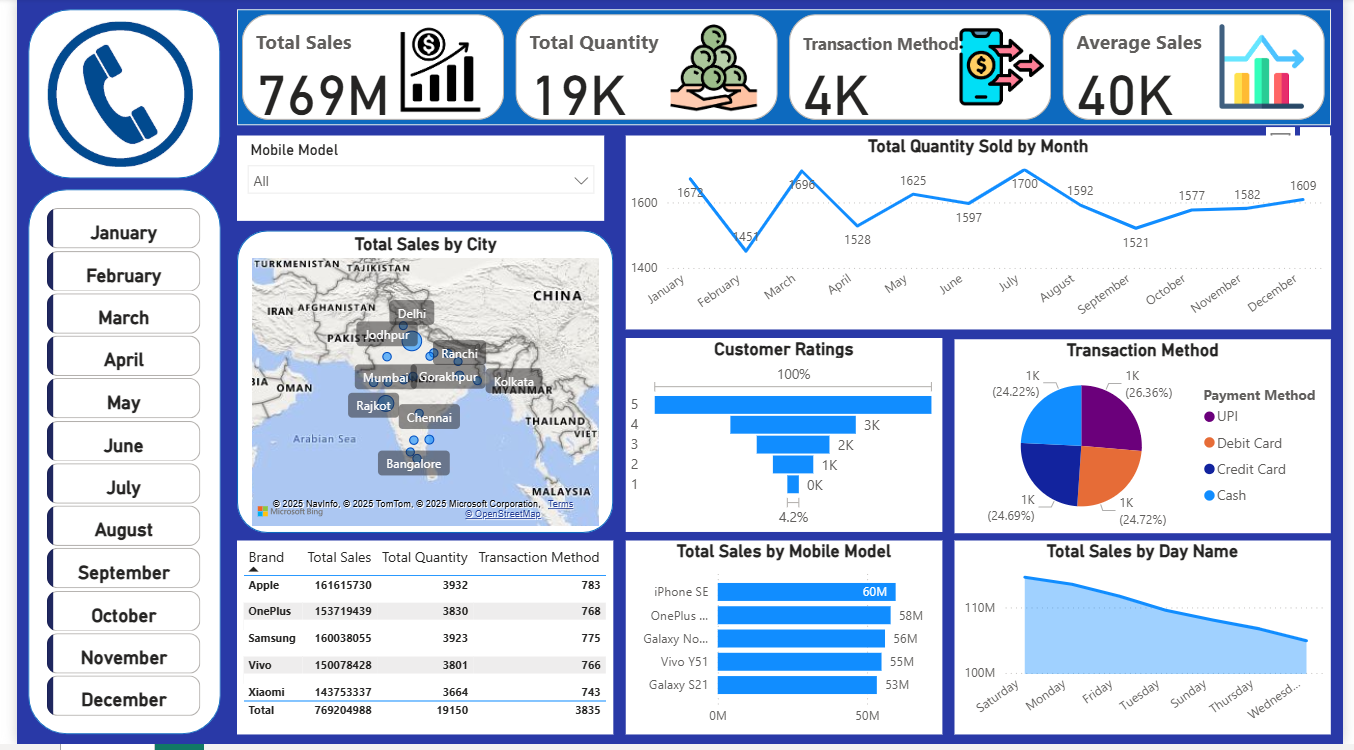

Layout of this report page (visuals, bound fields, positions):
{"tool":"powerbi","page":{"name":"Page 1","canvas":[1280,720],"ordinal":0},"visuals":[{"type":"shape","box":[10.9,184.6,185.8,526],"z":1000},{"type":"advancedSlicerVisual","fields":{"Values":["Mobile_Sales_Data.Date.Variation.Date Hierarchy.Month"]},"box":[24.1,197.9,158,500.7],"z":2000},{"type":"cardVisual","fields":{"Data":["Mobile_Sales_Data.Total Sales","Mobile_Sales_Data.Total Quantity","Mobile_Sales_Data.Transaction Method","Mobile_Sales_Data.Average Sales"]},"box":[212.3,10.9,1055.6,112.2],"z":2500},{"type":"shape","box":[11,11,185.2,163.3],"z":3000},{"type":"image","box":[24.7,17.8,150.9,149.6],"z":4000},{"type":"shape","box":[212.3,224.4,363.1,292],"z":5000},{"type":"map","fields":{"Category":["Mobile_Sales_Data.City"],"Size":["Mobile_Sales_Data.Total Sales"]},"box":[222,226.8,345,288.3],"z":6000},{"type":"slicer","fields":{"Values":["Mobile_Sales_Data.Mobile Model"]},"box":[212.3,132.7,354.7,82],"z":7000},{"type":"lineChart","title":"Total Quantity Sold by Month","fields":{"Category":["Mobile_Sales_Data.Date.Variation.Date Hierarchy.Month"],"Y":["Sum(Mobile_Sales_Data.Units Sold)"]},"box":[587.5,132.7,680.4,187],"z":8000},{"type":"funnel","title":" Customer Ratings ","fields":{"Y":["Sum(Mobile_Sales_Data.Customer Ratings)"],"Category":["Mobile_Sales_Data.Customer Ratings"]},"box":[587.5,328.2,305.2,187],"z":9000},{"type":"pieChart","title":"Transaction Method ","fields":{"Category":["Mobile_Sales_Data.Payment Method"],"Y":["Mobile_Sales_Data.Transaction Method"]},"box":[904.8,329.4,363.1,187],"z":10000},{"type":"clusteredBarChart","fields":{"Category":["Mobile_Sales_Data.Mobile Model"],"Y":["Mobile_Sales_Data.Total Sales"]},"box":[587.5,523.6,305.2,187],"z":11000},{"type":"tableEx","fields":{"Values":["Mobile_Sales_Data.Brand","Mobile_Sales_Data.Total Sales","Mobile_Sales_Data.Total Quantity","Mobile_Sales_Data.Transaction Method"]},"box":[212.3,523.6,363.1,187],"z":12000},{"type":"areaChart","fields":{"Y":["Mobile_Sales_Data.Total Sales"],"Category":["Mobile_Sales_Data.Day Name"]},"box":[905,524,363,187],"z":13000},{"type":"image","box":[1155.8,10.9,91.7,109.8],"z":15501},{"type":"image","box":[360.7,18.1,96.5,102.5],"z":15502},{"type":"image","box":[615.3,18.1,114.6,98.9],"z":15503},{"type":"image","box":[904.8,16.9,91.7,98.9],"z":15504}]}

Visuals, with their boxes in screenshot pixels (x1, y1, x2, y2), scaled from the page's 1280x720 canvas onto the 1354x750 screenshot:
shape: crop(12, 192, 208, 740)
advancedSlicerVisual - Mobile_Sales_Data.Date.Variation.Date Hierarchy.Month: crop(25, 206, 193, 728)
cardVisual - Mobile_Sales_Data.Total Sales x Mobile_Sales_Data.Total Quantity: crop(225, 11, 1341, 128)
shape: crop(12, 11, 208, 182)
image: crop(26, 19, 186, 174)
shape: crop(225, 234, 609, 538)
map - Mobile_Sales_Data.City x Mobile_Sales_Data.Total Sales: crop(235, 236, 600, 537)
slicer - Mobile_Sales_Data.Mobile Model: crop(225, 138, 600, 224)
"Total Quantity Sold by Month" lineChart: crop(621, 138, 1341, 333)
" Customer Ratings " funnel: crop(621, 342, 944, 537)
"Transaction Method " pieChart: crop(957, 343, 1341, 538)
clusteredBarChart - Mobile_Sales_Data.Mobile Model x Mobile_Sales_Data.Total Sales: crop(621, 545, 944, 740)
tableEx - Mobile_Sales_Data.Brand x Mobile_Sales_Data.Total Sales: crop(225, 545, 609, 740)
areaChart - Mobile_Sales_Data.Total Sales x Mobile_Sales_Data.Day Name: crop(957, 546, 1341, 741)
image: crop(1223, 11, 1320, 126)
image: crop(382, 19, 484, 126)
image: crop(651, 19, 772, 122)
image: crop(957, 18, 1054, 121)
